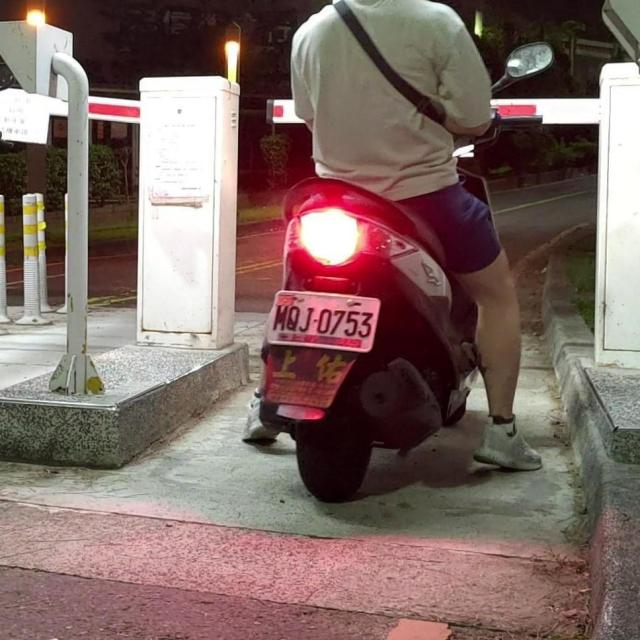W: (267, 288, 380, 352)
